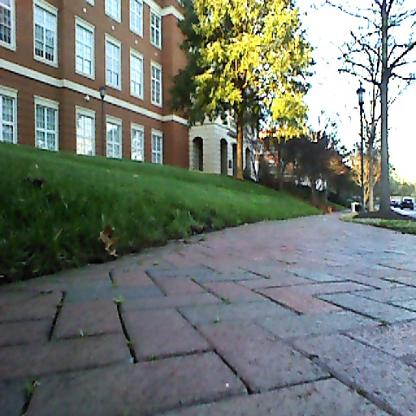Edge: (0, 234, 185, 304)
Sidewalk: (0, 212, 416, 416)
